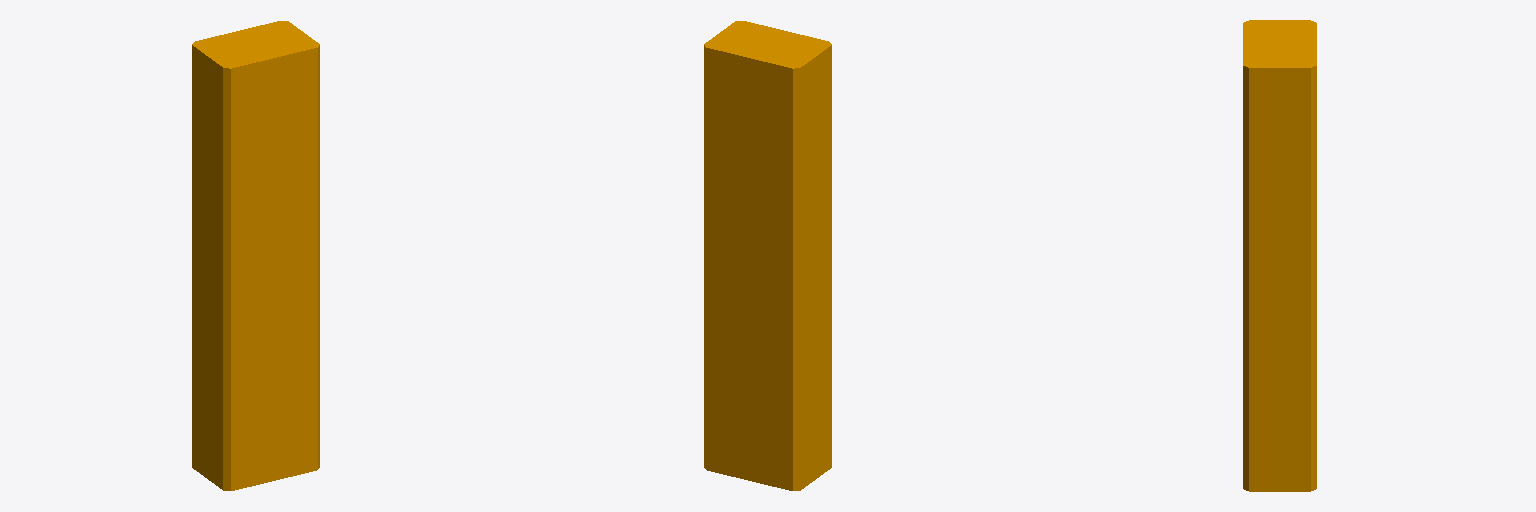
robot.urdf — factory_rectangular_peg_12mm_loose:
<?xml version="1.0"?>
<robot name="factory_rectangular_peg_12mm_loose">
    <link name="factory_rectangular_peg_12mm_loose">
        <visual>
            <geometry>
                <mesh filename="../mesh/factory_insertion/factory_rectangular_peg_12mm_loose_subdiv_3x.obj"/>
            </geometry>
        </visual>
        <collision>
            <geometry>
                <mesh filename="../mesh/factory_insertion/factory_rectangular_peg_12mm_loose_subdiv_3x.obj"/>
            </geometry>
            <sdf resolution="256"/>
        </collision>
    </link>
</robot>

--- Facts derived from the render (not from the file) ---
Views: 3 orthographic renders of the robot side by side, from view 1: azimuth 30°, elevation 25°; view 2: azimuth 150°, elevation 25°; view 3: azimuth 270°, elevation 25°.
Robot: factory_rectangular_peg_12mm_loose — 1 links, 0 joints (none); root link factory_rectangular_peg_12mm_loose; default pose: every joint at zero.
Visible links, largest first — view 1: factory_rectangular_peg_12mm_loose; view 2: factory_rectangular_peg_12mm_loose; view 3: factory_rectangular_peg_12mm_loose.
Boxes of the visible links, x1,y1,x2,y2 form: factory_rectangular_peg_12mm_loose: (192, 21, 319, 490); factory_rectangular_peg_12mm_loose: (704, 21, 831, 490); factory_rectangular_peg_12mm_loose: (1243, 20, 1316, 491).
Size in the robot's own frame: 0.012 by 0.0079 by 0.05 metres.
1 mesh visuals loaded from 1 distinct referenced files (1 OBJ).